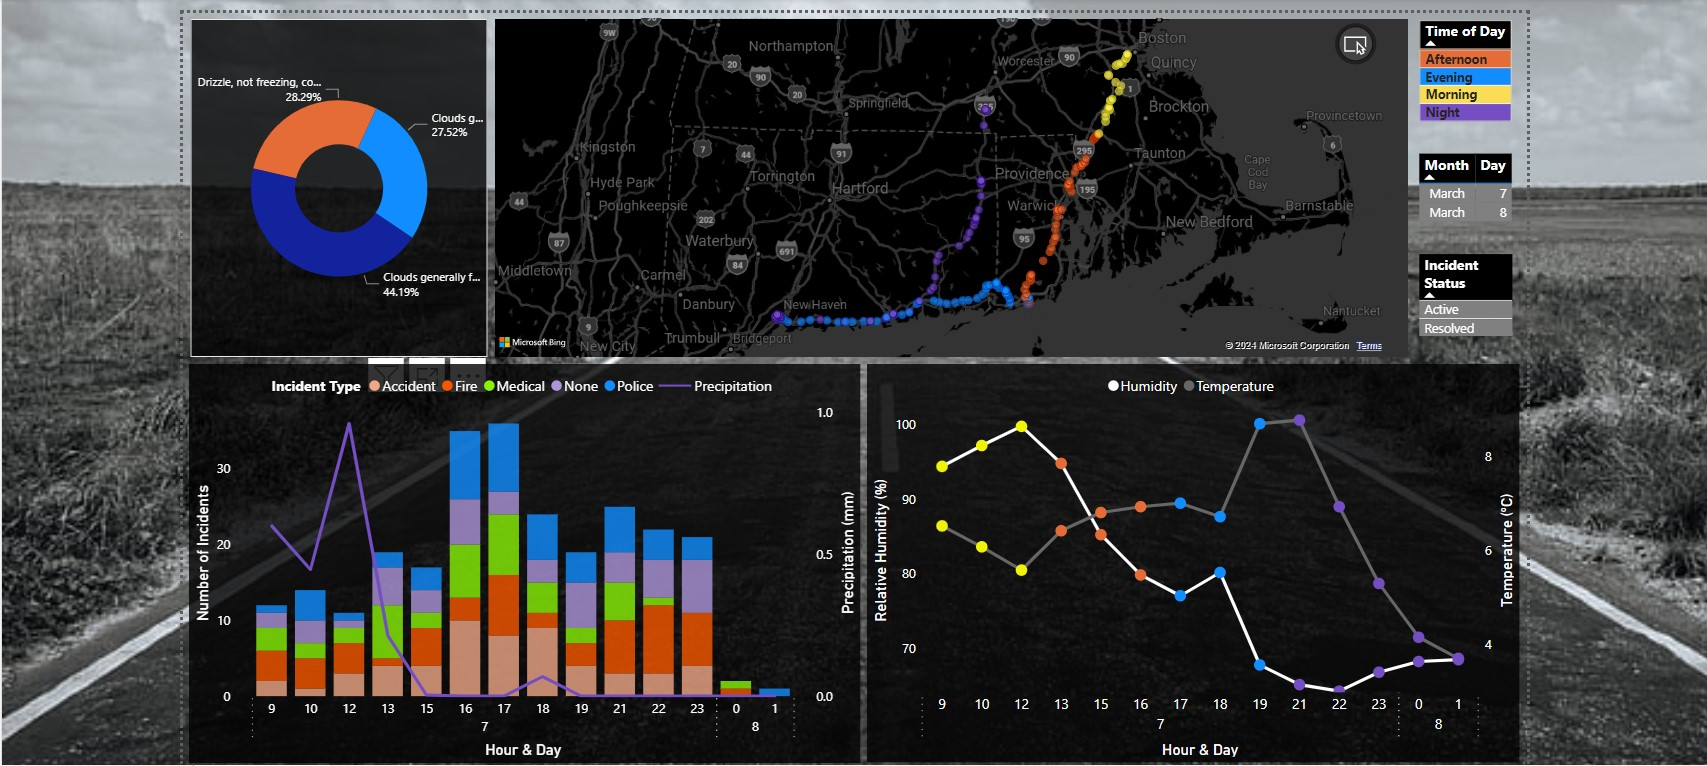

Layout of this report page (visuals, bound fields, positions):
{"tool":"powerbi","page":{"name":"Road Trip","canvas":[1280,720],"ordinal":0},"visuals":[{"type":"tableEx","fields":{"Values":["vehicle_data.day_type"]},"box":[1171.2,0.8,104.5,150.8],"z":0},{"type":"map","fields":{"Y":["vehicle_data.latitude"],"X":["vehicle_data.longitude"]},"box":[291,0,880,333],"z":1000},{"type":"tableEx","fields":{"Values":["vehicle_data.Date.Variation.Date Hierarchy.Month","vehicle_data.Date.Variation.Date Hierarchy.Day"]},"box":[1171.2,129,100.8,79.5],"z":2000},{"type":"lineChart","fields":{"Category":["vehicle_data.Date.Variation.Date Hierarchy.Day","vehicle_data.Hour"],"Y":["Avg(weather_data.humidity)"],"Y2":["Avg(weather_data.temperature)"]},"box":[651,335,621,379.2],"z":3000},{"type":"donutChart","fields":{"Y":["CountNonNull(weather_data.weathertype)"],"Series":["weather_data.weathertype"]},"box":[7,5,282.4,322],"z":4000},{"type":"lineStackedColumnComboChart","fields":{"Category":["vehicle_data.Date.Variation.Date Hierarchy.Day","vehicle_data.Hour"],"Y":["CountNonNull(emergency_data.type)"],"Y2":["Avg(weather_data.precipitation)"],"Series":["emergency_data.type"]},"box":[5,335,639,380],"z":5000},{"type":"tableEx","fields":{"Values":["emergency_data.status"]},"box":[1171.2,224.2,104.5,93.2],"z":6000}]}

Visuals, with their boxes in screenshot pixels (x1, y1, x2, y2):
tableEx - vehicle_data.day_type: box=[1404, 10, 1514, 168]
map - vehicle_data.latitude x vehicle_data.longitude: box=[483, 9, 1404, 358]
tableEx - vehicle_data.Date.Variation.Date Hierarchy.Month x vehicle_data.Date.Variation.Date Hierarchy.Day: box=[1404, 144, 1510, 227]
lineChart - vehicle_data.Date.Variation.Date Hierarchy.Day x vehicle_data.Hour: box=[860, 360, 1510, 757]
donutChart - CountNonNull(weather_data.weathertype) x weather_data.weathertype: box=[185, 14, 481, 351]
lineStackedColumnComboChart - vehicle_data.Date.Variation.Date Hierarchy.Day x vehicle_data.Hour: box=[183, 360, 852, 758]
tableEx - emergency_data.status: box=[1404, 244, 1514, 341]
